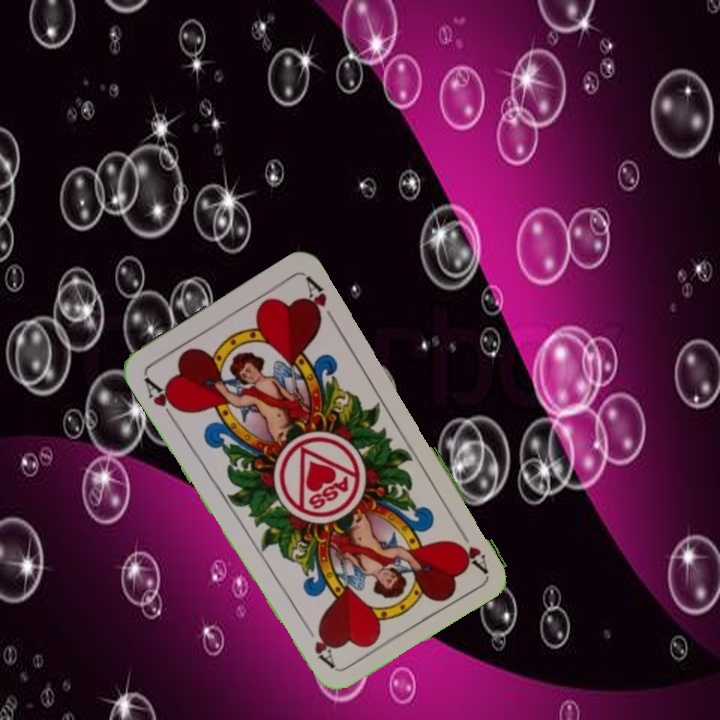HA: (140, 372, 184, 425), (452, 520, 490, 575)
